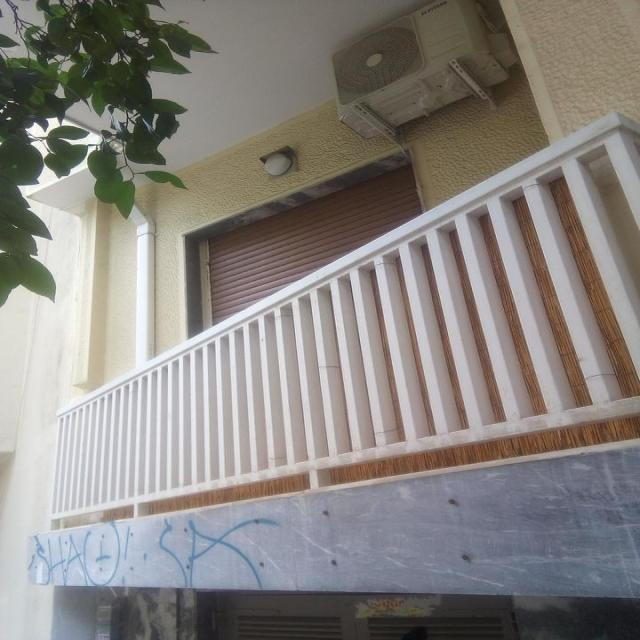nonspitting: (26, 517, 282, 587)
